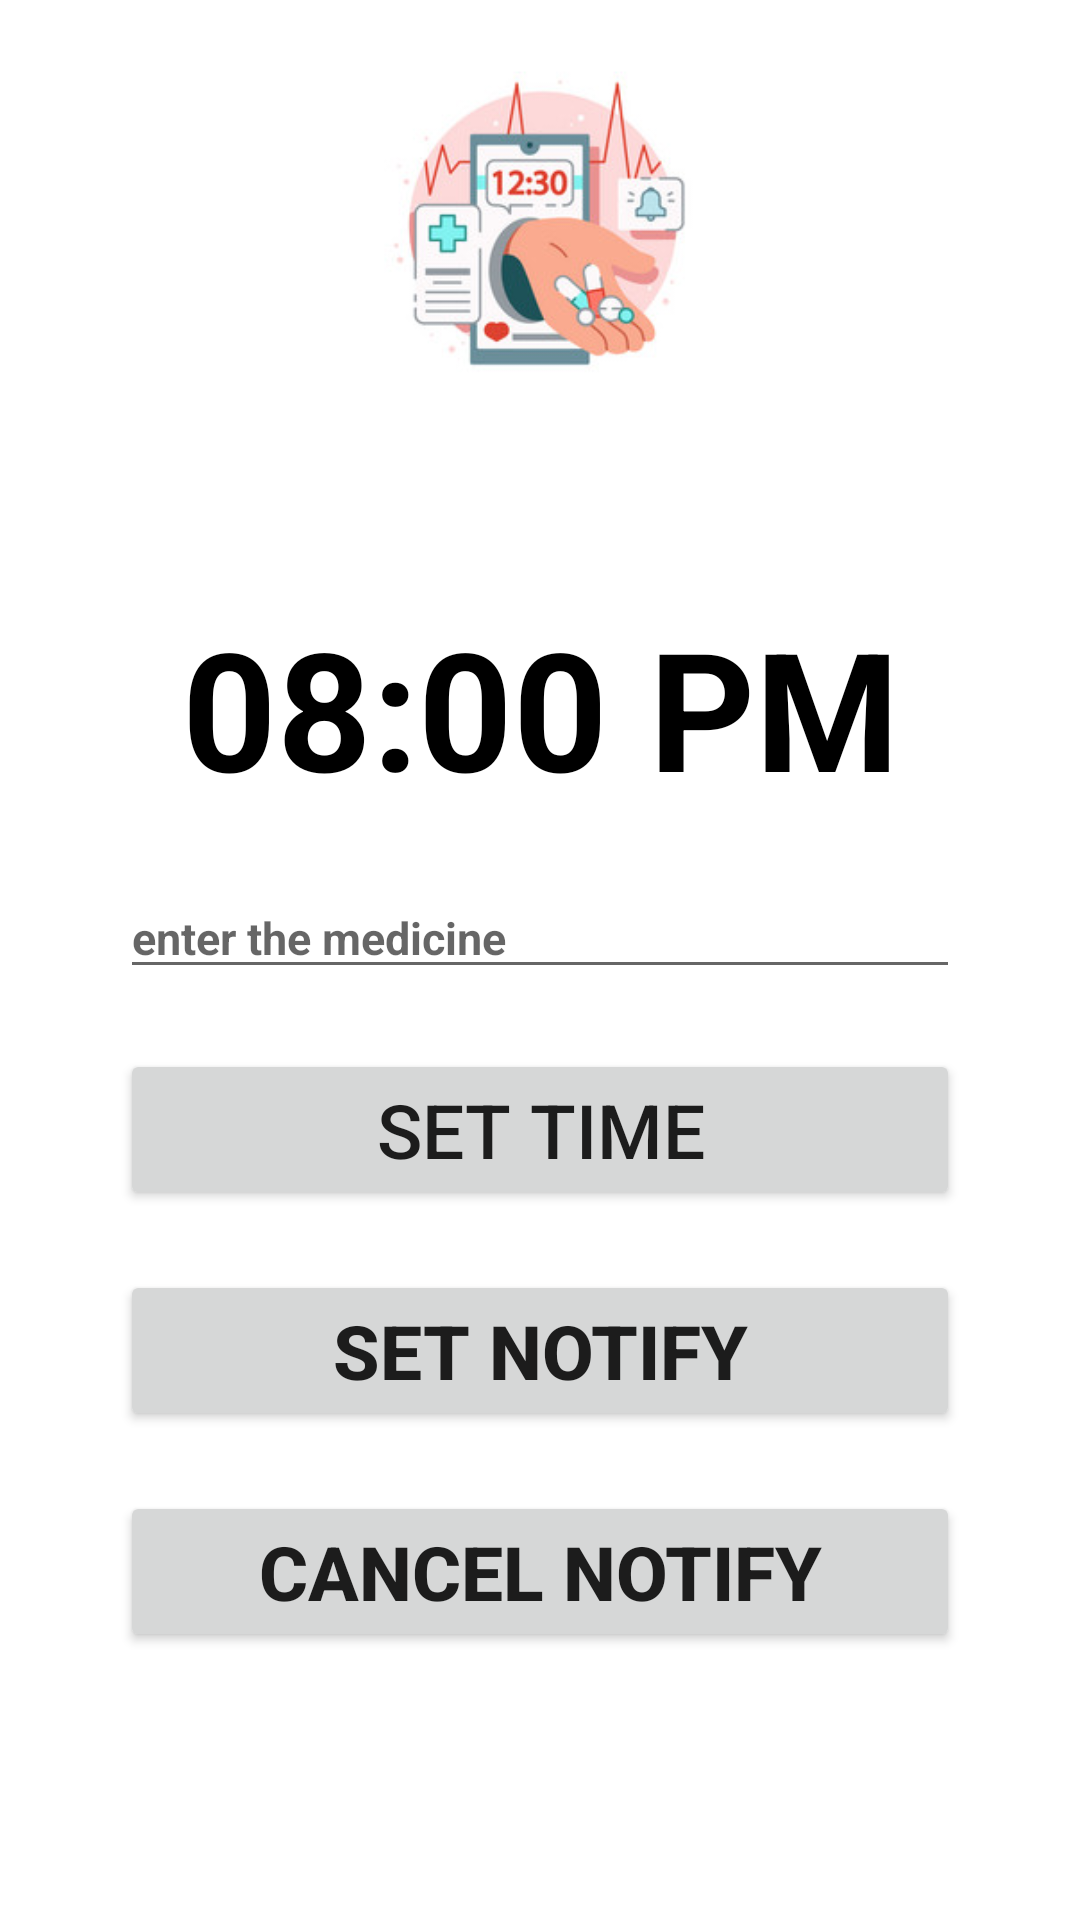

Screen size 1080w x 1920h. Icon name, then its center in pixels as [x,y]:
reminder: [540,223]
